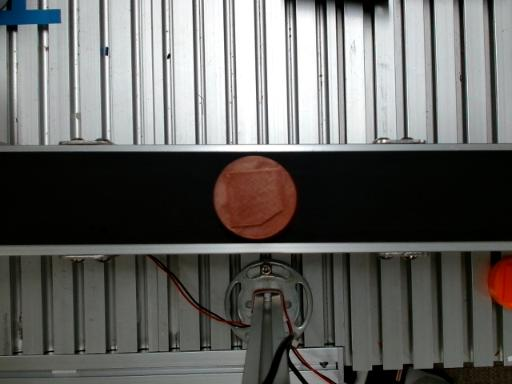Brown_Waper: (213, 156, 296, 239)
Not_Square: (224, 167, 285, 227)
